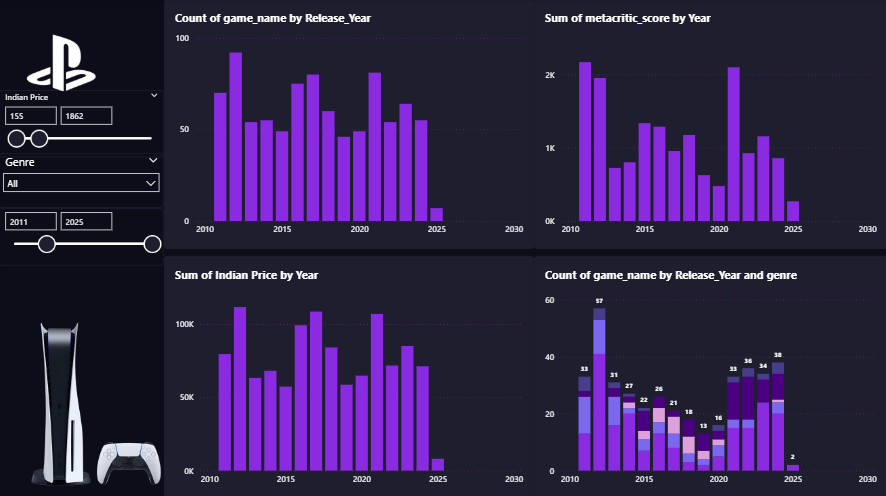

Layout of this report page (visuals, bound fields, positions):
{"tool":"powerbi","page":{"name":"Trend","canvas":[1280,720],"ordinal":3},"visuals":[{"type":"columnChart","fields":{"Category":["game_details.Release_Year"],"Y":["CountNonNull(game_details.game_name)"]},"box":[237.3,0,533.5,359.7],"z":0},{"type":"columnChart","fields":{"Y":["Sum(game_details.Indian Price)"],"Category":["game_details.release_date.Variation.Date Hierarchy.Year"]},"box":[237.3,370.2,533.5,349.1],"z":1000},{"type":"columnChart","fields":{"Category":["game_details.release_date.Variation.Date Hierarchy.Year"],"Y":["Sum(game_details.metacritic_score)"]},"box":[770.7,0,509.3,359.7],"z":2000},{"type":"columnChart","fields":{"Category":["game_details.Release_Year"],"Series":["game_details.genre"],"Y":["CountNonNull(game_details.game_name)"]},"box":[770.7,370.2,509.3,349.1],"z":3000},{"type":"slicer","fields":{"Values":["game_details.Release_Year"]},"box":[0,300.7,237.3,83.1],"z":4000},{"type":"slicer","fields":{"Values":["game_details.genre"]},"box":[0,222.1,237.3,78.6],"z":5000},{"type":"slicer","fields":{"Values":["game_details.Indian Price"]},"box":[0,131.5,237.3,96.7],"z":6000}]}

Visuals, with their boxes in screenshot pixels (x1, y1, x2, y2), scaled from the page's 1280x720 canvas onto the 886x496 screenshot:
columnChart - game_details.Release_Year x CountNonNull(game_details.game_name): bbox(164, 0, 534, 248)
columnChart - Sum(game_details.Indian Price) x game_details.release_date.Variation.Date Hierarchy.Year: bbox(164, 255, 534, 495)
columnChart - game_details.release_date.Variation.Date Hierarchy.Year x Sum(game_details.metacritic_score): bbox(533, 0, 885, 248)
columnChart - game_details.Release_Year x game_details.genre: bbox(533, 255, 885, 495)
slicer - game_details.Release_Year: bbox(0, 207, 164, 264)
slicer - game_details.genre: bbox(0, 153, 164, 207)
slicer - game_details.Indian Price: bbox(0, 91, 164, 157)
